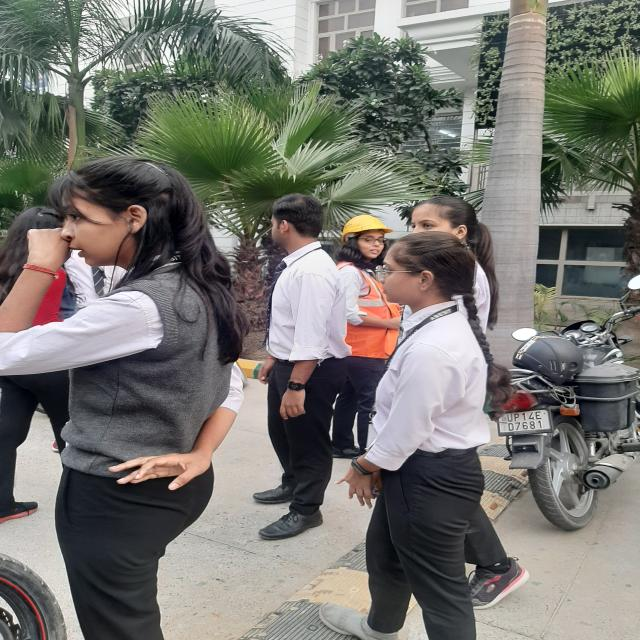safe: (334, 210, 399, 467)
unsafe: (1, 158, 241, 640), (368, 237, 482, 640), (244, 197, 346, 544)
